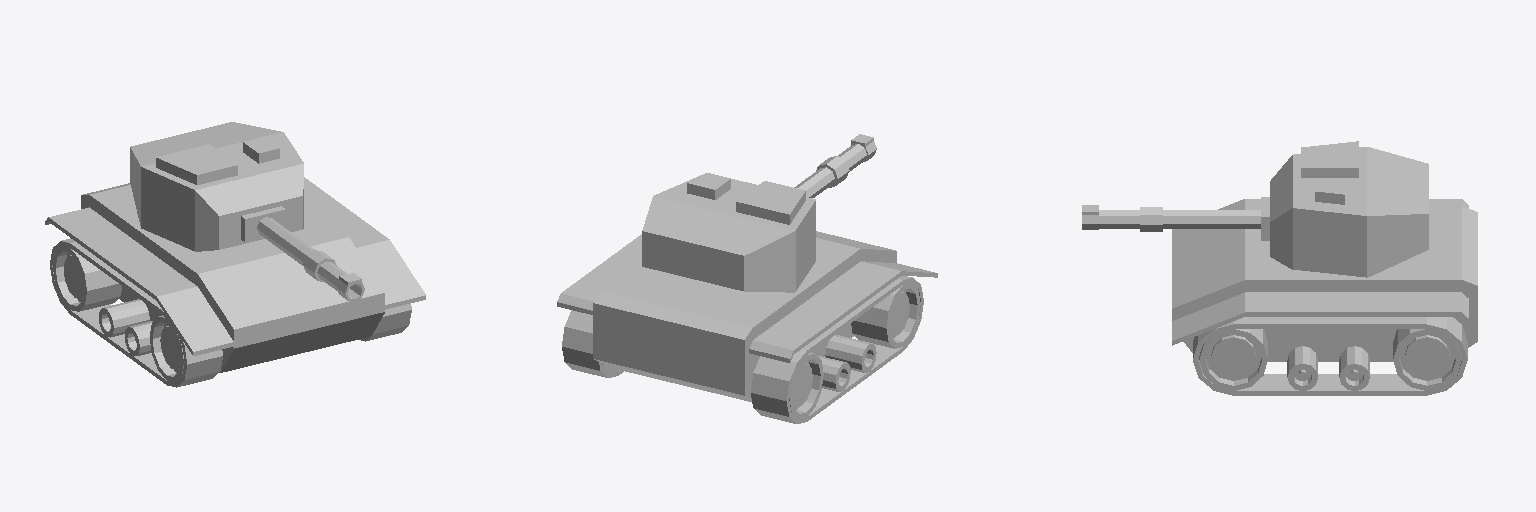
Rendered from tank.obj.
3 views of the same model, side by side, from view 1: azimuth 30°, elevation 25°; view 2: azimuth 150°, elevation 25°; view 3: azimuth 270°, elevation 25° (orthographic).
Visible parts, largest first — view 1: tank; view 2: tank; view 3: tank.
Boxes of the visible parts, <box> form: tank: <box>45,122,425,387</box>; tank: <box>557,134,937,423</box>; tank: <box>1082,141,1477,395</box>.
Size of the model in its own units: 4.76 by 3.31 by 7.